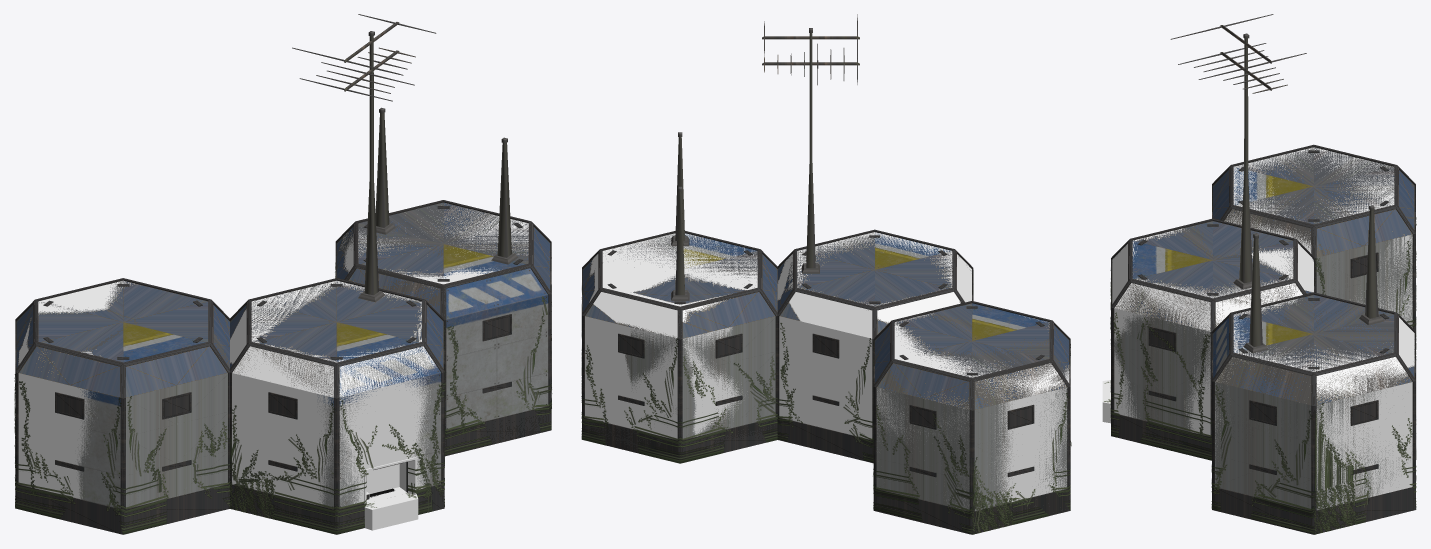
The picture shows the model from 3 angles, left to right: view 1: azimuth 30°, elevation 25°; view 2: azimuth 150°, elevation 25°; view 3: azimuth 270°, elevation 25°; orthographic projection. The views are drawn at different scales.
Visible parts, largest first — view 1: um_objects_un_a_w23base01_01_model_lod0Shape:objects_un_a_w2 (×7), um_objects_un_a_w23base01_01_model_lod2Shape:objects_un_a_w2 (×3), um_objects_un_a_w23base01_01_model_lod1Shape:objects_un_a_w2 (×5), nomerge_led01_shape:objects_un_a_w23base01_led01; view 2: um_objects_un_a_w23base01_01_model_lod0Shape:objects_un_a_w2 (×5), um_objects_un_a_w23base01_01_model_lod1Shape:objects_un_a_w2 (×5), um_objects_un_a_w23base01_01_model_lod2Shape:objects_un_a_w2 (×2), nomerge_led01_shape:objects_un_a_w23base01_led01; view 3: um_objects_un_a_w23base01_01_model_lod0Shape:objects_un_a_w2 (×6), um_objects_un_a_w23base01_01_model_lod2Shape:objects_un_a_w2 (×2), um_objects_un_a_w23base01_01_model_lod1Shape:objects_un_a_w2 (×5), nomerge_led01_shape:objects_un_a_w23base01_led01.
Boxes of the visible parts, x1,y1,x2,y2 form: um_objects_un_a_w23base01_01_model_lod0Shape:objects_un_a_w2 (×7): (14, 14, 552, 534); um_objects_un_a_w23base01_01_model_lod2Shape:objects_un_a_w2 (×3): (16, 31, 550, 507); um_objects_un_a_w23base01_01_model_lod1Shape:objects_un_a_w2 (×5): (15, 31, 551, 533); nomerge_led01_shape:objects_un_a_w23base01_led01: (43, 206, 523, 471); um_objects_un_a_w23base01_01_model_lod0Shape:objects_un_a_w2 (×5): (581, 14, 1071, 534); um_objects_un_a_w23base01_01_model_lod1Shape:objects_un_a_w2 (×5): (581, 28, 1071, 534); um_objects_un_a_w23base01_01_model_lod2Shape:objects_un_a_w2 (×2): (583, 28, 1067, 510); nomerge_led01_shape:objects_un_a_w23base01_led01: (607, 235, 1044, 477); um_objects_un_a_w23base01_01_model_lod0Shape:objects_un_a_w2 (×6): (1102, 14, 1416, 534); um_objects_un_a_w23base01_01_model_lod2Shape:objects_un_a_w2 (×2): (1114, 33, 1414, 510); um_objects_un_a_w23base01_01_model_lod1Shape:objects_un_a_w2 (×5): (1110, 33, 1416, 533); nomerge_led01_shape:objects_un_a_w23base01_led01: (1137, 150, 1389, 474).
Size of what is drawn, in the model's own units: 80.44 by 60.85 by 43.49.
9 materials, 8 textured.
